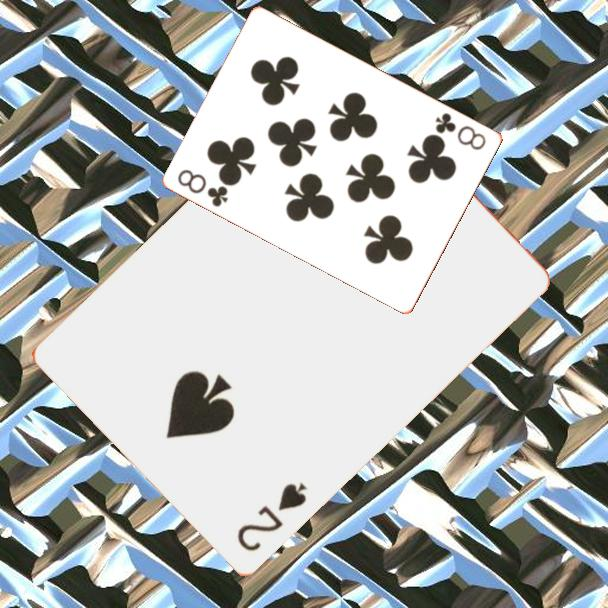c08: (432, 109, 489, 153), (174, 166, 231, 210)
s02: (233, 478, 310, 553)
